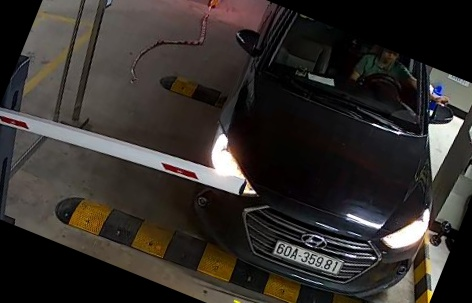plate: (274, 237, 347, 276)
